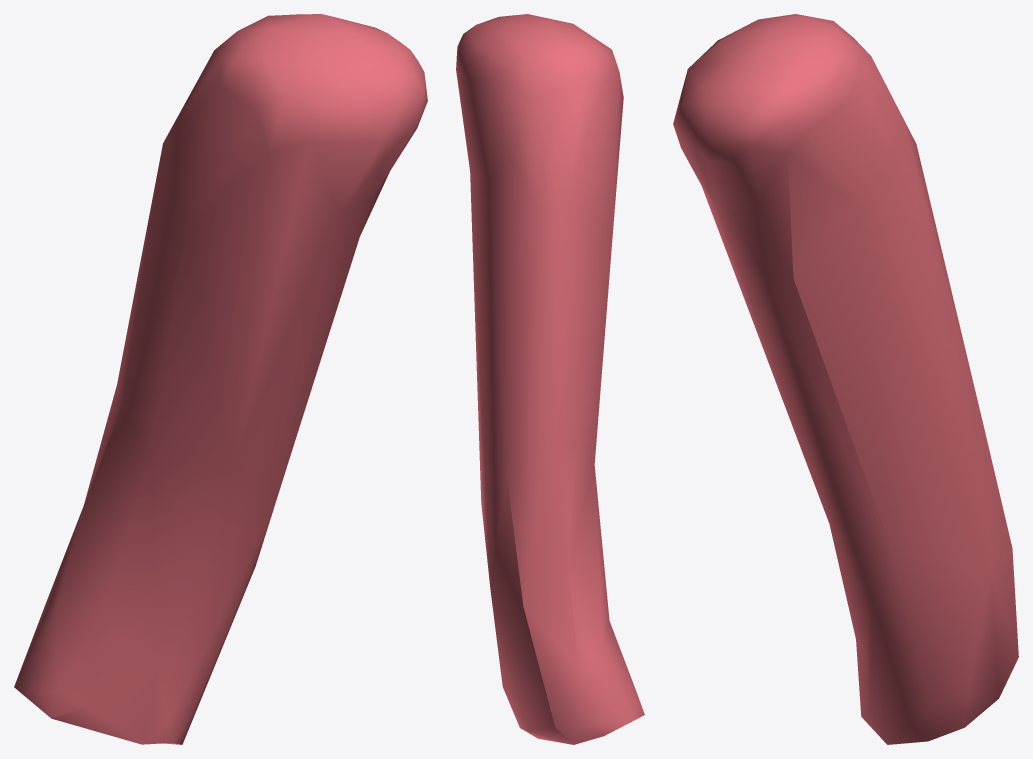
Rendered from fma76574_fj3432.glb.
The picture shows the model from 3 angles, left to right: view 1: azimuth 30°, elevation 25°; view 2: azimuth 150°, elevation 25°; view 3: azimuth 270°, elevation 25°; orthographic projection. The views are drawn at different scales.
Parts seen in each view (by area): view 1: FMA76574_FJ3432; view 2: FMA76574_FJ3432; view 3: FMA76574_FJ3432.
Part boxes in pixels (bbox=[...]): FMA76574_FJ3432: bbox=[14, 14, 427, 744]; FMA76574_FJ3432: bbox=[456, 14, 644, 744]; FMA76574_FJ3432: bbox=[673, 14, 1018, 744].
Size of the model in its own units: 0.0055 by 0.0131 by 0.00546.
